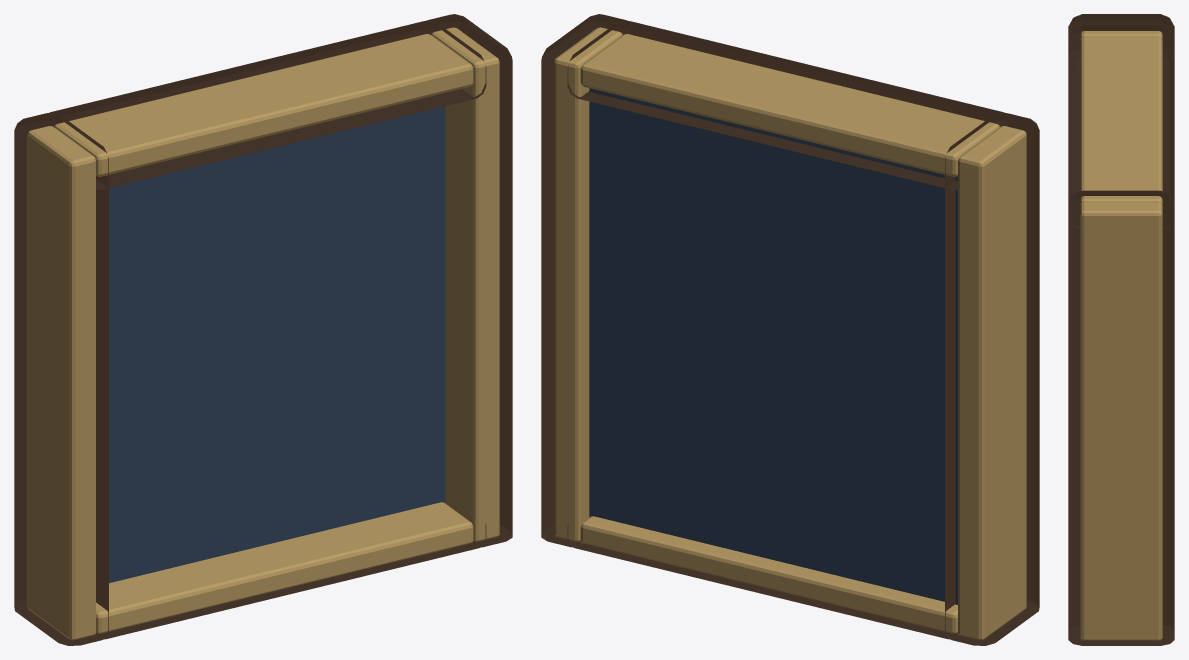
Rendered from observatory-frame.glb.
The picture shows the model from 3 angles, left to right: view 1: azimuth 30°, elevation 25°; view 2: azimuth 150°, elevation 25°; view 3: azimuth 270°, elevation 25°; orthographic projection. The views are drawn at different scales.
Visible parts, largest first — view 1: observatory-frame, observatory-frame-outline; view 2: observatory-frame, observatory-frame-outline; view 3: observatory-frame, observatory-frame-outline.
Part boxes in pixels (<box>): observatory-frame: <box>27,27,499,640</box>; observatory-frame-outline: <box>14,14,512,645</box>; observatory-frame: <box>554,27,1026,640</box>; observatory-frame-outline: <box>541,14,1039,645</box>; observatory-frame: <box>1080,31,1162,640</box>; observatory-frame-outline: <box>1068,14,1174,645</box>.
Bounding box in the file's own units: 0.6848 × 0.7114 × 0.1548.
